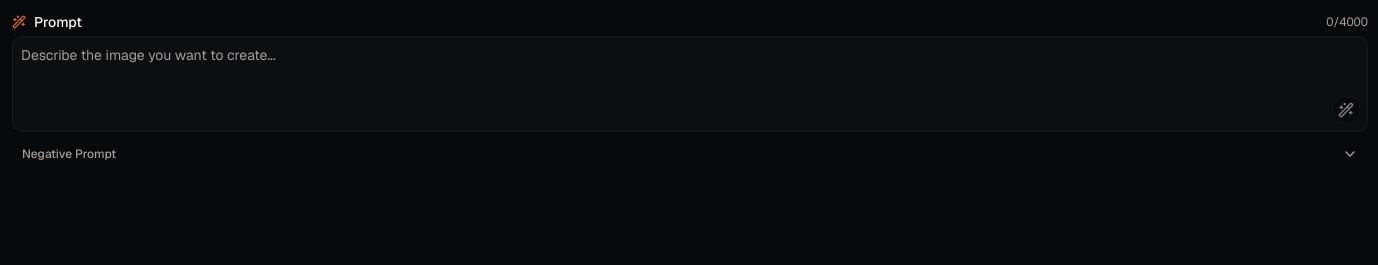
PromptSection › negative prompt EnhanceButton disabled state › disables negative enhance button again after clearing negative prompt
Open negative prompt section
Click the button with test id "negative-prompt-toggle".
click(69, 154)  # box [12, 138, 1368, 170]
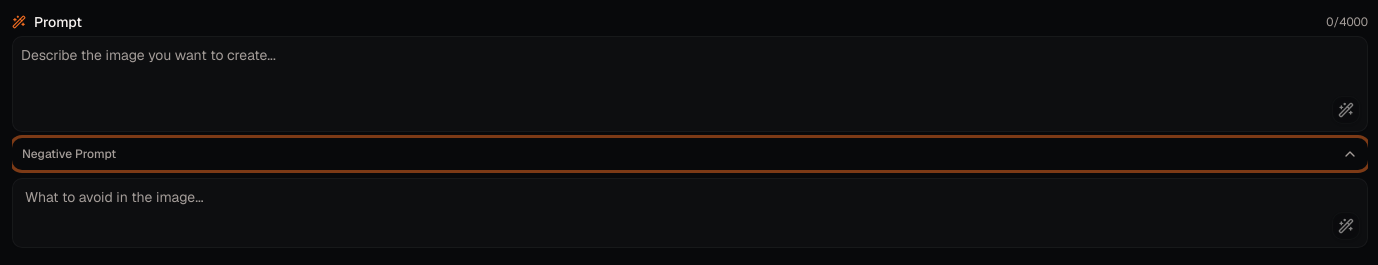
Type then clear negative prompt
Type "blurry" into the text box with test id "negative-prompt-input".
click(690, 213); type("blurry")  # box [12, 178, 1368, 248]
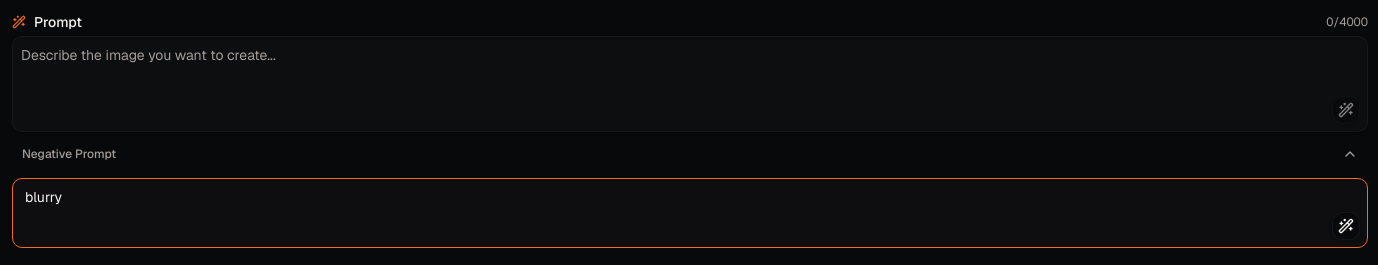
Result: the 2nd button named "Enhance with AI" is enabled at [1332, 212, 1360, 240]
Clear the negative prompt
Clear the text box with test id "negative-prompt-input" at (690,213), box [12, 178, 1368, 248]
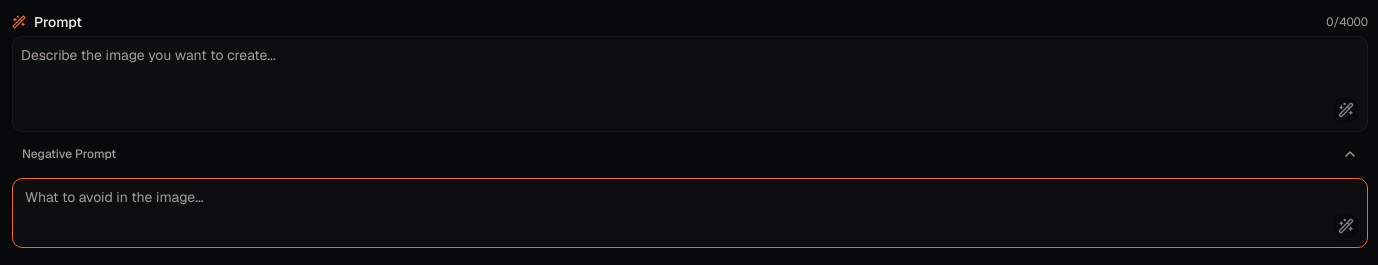
Result: the 2nd button named "Enhance with AI" is disabled at [1332, 212, 1360, 240]
